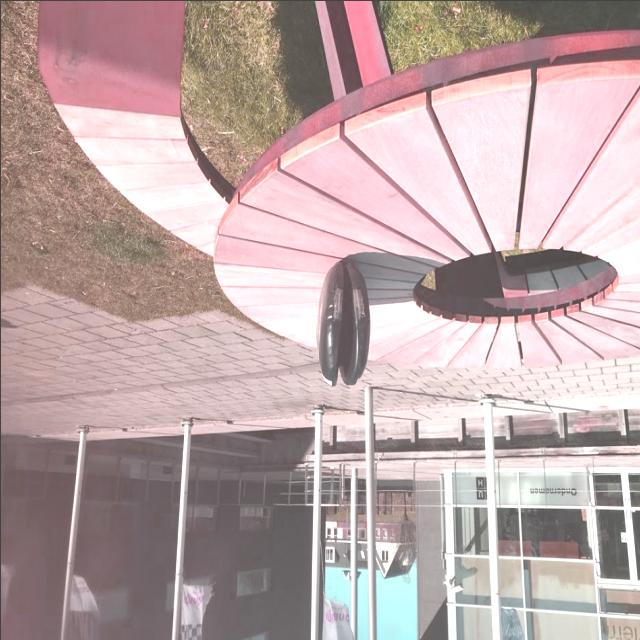paddle: (316, 258, 372, 387)
